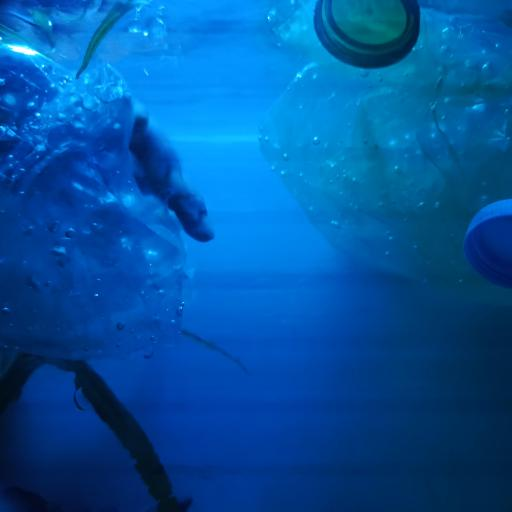bottle_cap: (314, 0, 422, 69), (467, 198, 512, 288)
plastic_bag: (260, 0, 512, 306), (0, 42, 214, 365)
